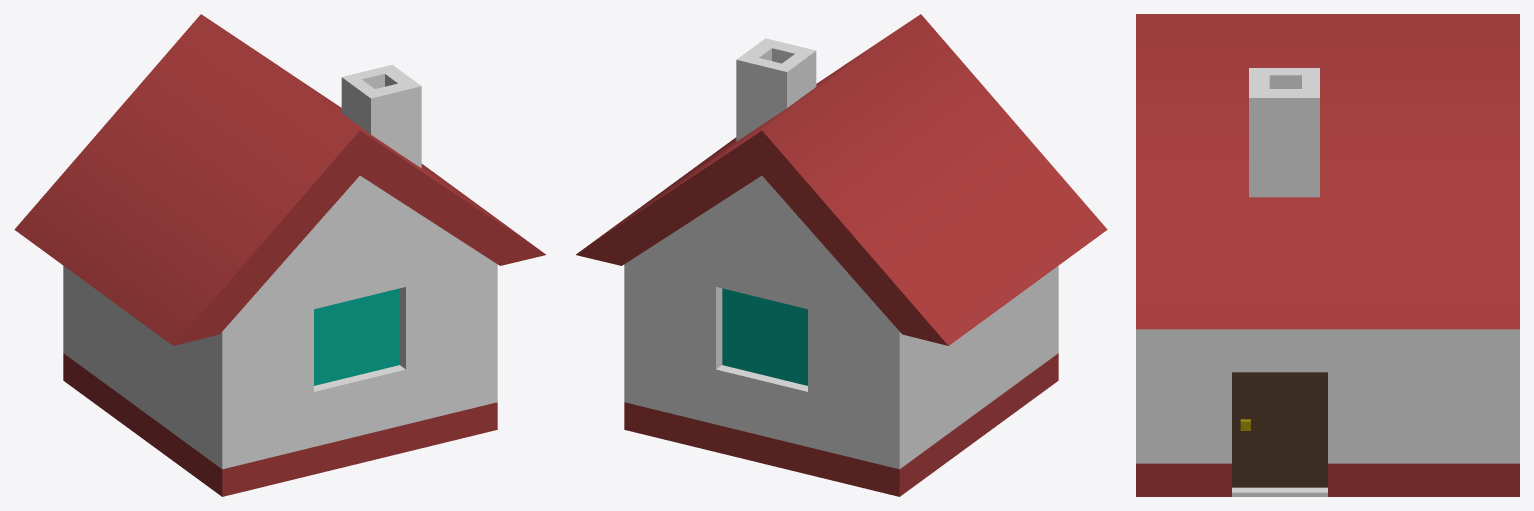
The model's file is RedWhiteHouseSimple.fbx.
The picture shows the model from 3 angles, left to right: view 1: azimuth 30°, elevation 25°; view 2: azimuth 150°, elevation 25°; view 3: azimuth 270°, elevation 25°; orthographic projection. The views are drawn at different scales.
Visible parts, largest first — view 1: geo_Base, geo_roof, geo_Chimney; view 2: geo_Base, geo_roof, geo_Chimney; view 3: geo_roof, geo_Base, geo_Chimney.
Part boxes in pixels (box(x1,y1,x2,y2)): geo_Base: box(63, 176, 497, 496); geo_roof: box(14, 14, 545, 345); geo_Chimney: box(341, 64, 421, 168); geo_Base: box(624, 175, 1058, 496); geo_roof: box(576, 14, 1107, 345); geo_Chimney: box(736, 38, 816, 141); geo_roof: box(1136, 14, 1519, 329); geo_Base: box(1136, 329, 1519, 496); geo_Chimney: box(1249, 68, 1319, 197).
Bounding box in the file's own units: 266 × 227 × 197.
